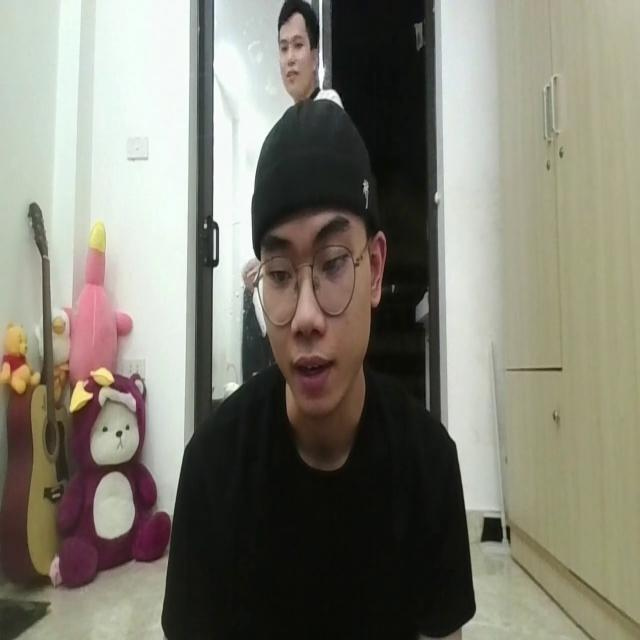extra_person: (272, 12, 343, 106)
student: (161, 101, 466, 640)
